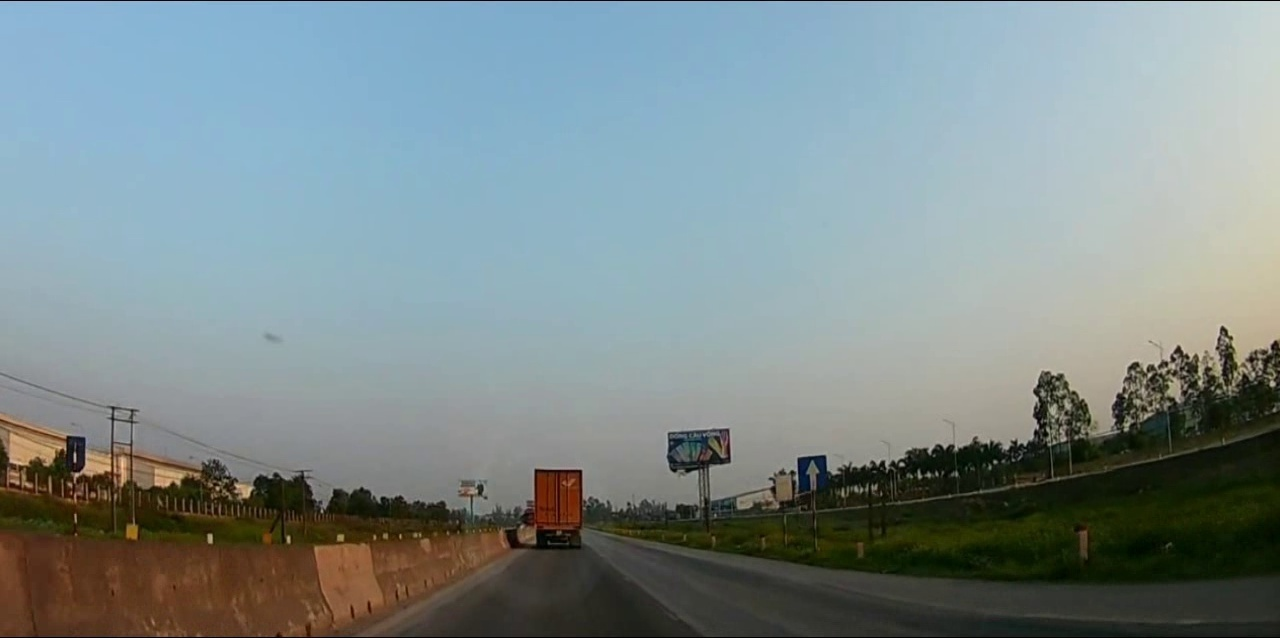Bien khac: (794, 453, 827, 493)
